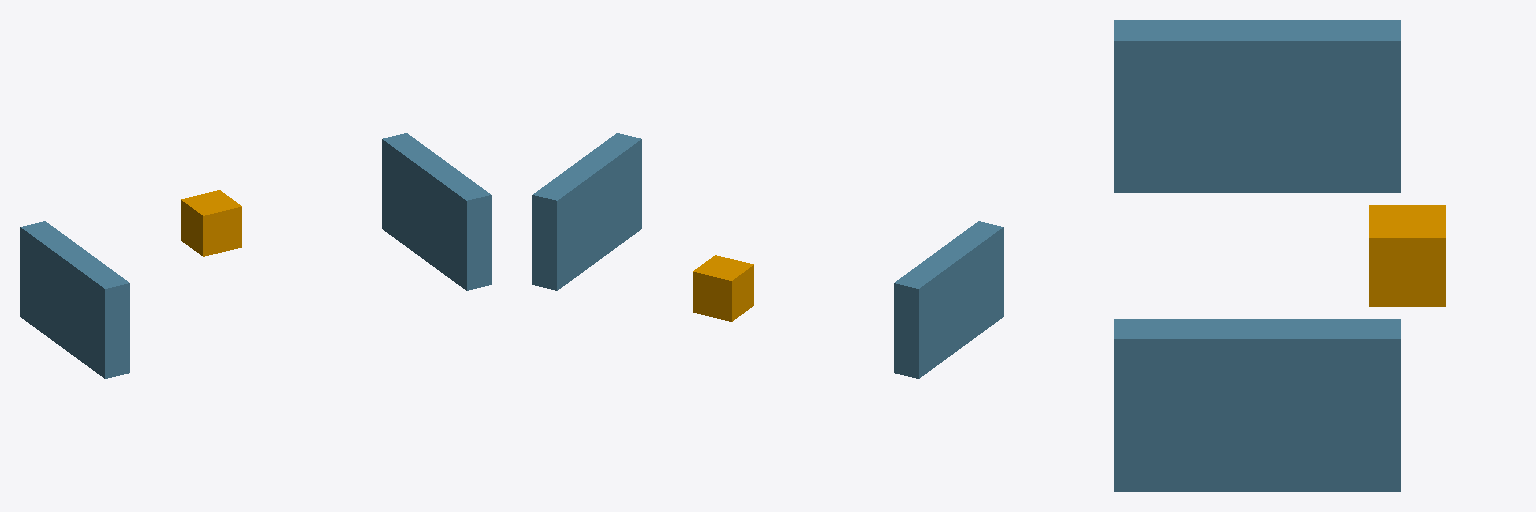
robot.urdf — ur5_robotiq_85:
<?xml version="1.0" ?>
<!-- =================================================================================== -->
<!-- |    This document was autogenerated by xacro from sisbot.xacro                   | -->
<!-- |    EDITING THIS FILE BY HAND IS NOT RECOMMENDED                                 | -->
<!-- =================================================================================== -->
<robot name="ur5_robotiq_85" xmlns:xacro="http://ros.org/wiki/xacro">
  <!--################################################
  ########              arm                    #######
  ####################################################-->

  <link name="base_link">
    <visual>
      <geometry>
        <mesh filename="./meshes/ur5/visual/base.obj"/>
      </geometry>
      <material name="LightGrey">
        <color rgba="0.7 0.7 0.7 1.0"/>
      </material>
    </visual>
    <collision>
      <geometry>
        <mesh filename="./meshes/ur5/collision/base.stl"/>
      </geometry>
    </collision>
    <inertial>
      <mass value="4.0"/>
      <origin rpy="0 0 0" xyz="0.0 0.0 0.0"/>
      <inertia ixx="0.00443333156" ixy="0.0" ixz="0.0" iyy="0.00443333156" iyz="0.0" izz="0.0072"/>
    </inertial>
  </link>
  <joint name="shoulder_pan_joint" type="revolute">
    <parent link="base_link"/>
    <child link="shoulder_link"/>
    <origin rpy="0.0 0.0 0.0" xyz="0.0 0.0 0.089159"/>
    <axis xyz="0 0 1"/>
    <limit effort="150.0" lower="-3.14159265359" upper="3.14159265359" velocity="3.15"/>
    <dynamics damping="0.0" friction="0.0"/>
  </joint>
  <link name="shoulder_link">
    <visual>
      <geometry>
        <mesh filename="./meshes/ur5/visual/shoulder.obj"/>
      </geometry>
      <material name="UR-Blue">
        <color rgba="0.376 0.576 0.674 1.0"/>
      </material>
    </visual>
    <collision>
      <geometry>
        <mesh filename="./meshes/ur5/collision/shoulder.stl"/>
      </geometry>
    </collision>
    <inertial>
      <mass value="3.7"/>
      <origin rpy="0 0 0" xyz="0.0 0.0 0.0"/>
      <inertia ixx="0.010267495893" ixy="0.0" ixz="0.0" iyy="0.010267495893" iyz="0.0" izz="0.00666"/>
    </inertial>
  </link>
  <joint name="shoulder_lift_joint" type="revolute">
    <parent link="shoulder_link"/>
    <child link="upper_arm_link"/>
    <origin rpy="0.0 1.57079632679 0.0" xyz="0.0 0.13585 0.0"/>
    <axis xyz="0 1 0"/>
    <limit effort="150.0" lower="-3.14159265359" upper="3.14159265359" velocity="3.15"/>
    <dynamics damping="0.0" friction="0.0"/>
  </joint>
  <link name="upper_arm_link">
    <visual>
      <geometry>
        <mesh filename="./meshes/ur5/visual/upperarm.obj"/>
      </geometry>
      <material name="LightGrey">
        <color rgba="0.7 0.7 0.7 1.0"/>
      </material>
    </visual>
    <collision>
      <geometry>
        <mesh filename="./meshes/ur5/collision/upperarm.stl"/>
      </geometry>
    </collision>
    <inertial>
      <mass value="8.393"/>
      <origin rpy="0 0 0" xyz="0.0 0.0 0.28"/>
      <inertia ixx="0.22689067591" ixy="0.0" ixz="0.0" iyy="0.22689067591" iyz="0.0" izz="0.0151074"/>
    </inertial>
  </link>
  <joint name="elbow_joint" type="revolute">
    <parent link="upper_arm_link"/>
    <child link="forearm_link"/>
    <origin rpy="0.0 0.0 0.0" xyz="0.0 -0.1197 0.425"/>
    <axis xyz="0 1 0"/>
    <limit effort="150.0" lower="-3.14159265359" upper="3.14159265359" velocity="3.15"/>
    <dynamics damping="0.0" friction="0.0"/>
  </joint>
  <link name="forearm_link">
    <visual>
      <geometry>
        <mesh filename="./meshes/ur5/visual/forearm.obj"/>
      </geometry>
      <material name="LightGrey">
        <color rgba="0.7 0.7 0.7 1.0"/>
      </material>
    </visual>
    <collision>
      <geometry>
        <mesh filename="./meshes/ur5/collision/forearm.stl"/>
      </geometry>
    </collision>
    <inertial>
      <mass value="2.275"/>
      <origin rpy="0 0 0" xyz="0.0 0.0 0.25"/>
      <inertia ixx="0.049443313556" ixy="0.0" ixz="0.0" iyy="0.049443313556" iyz="0.0" izz="0.004095"/>
    </inertial>
  </link>
  <joint name="wrist_1_joint" type="revolute">
    <parent link="forearm_link"/>
    <child link="wrist_1_link"/>
    <origin rpy="0.0 1.57079632679 0.0" xyz="0.0 0.0 0.39225"/>
    <axis xyz="0 1 0"/>
    <limit effort="28.0" lower="-3.14159265359" upper="3.14159265359" velocity="3.2"/>
    <dynamics damping="0.0" friction="0.0"/>
  </joint>
  <link name="wrist_1_link">
    <visual>
      <geometry>
        <mesh filename="./meshes/ur5/visual/wrist1.obj"/>
      </geometry>
      <material name="UR-Blue">
        <color rgba="0.376 0.576 0.674 1.0"/>
      </material>
    </visual>
    <collision>
      <geometry>
        <mesh filename="./meshes/ur5/collision/wrist1.stl"/>
      </geometry>
    </collision>
    <inertial>
      <mass value="1.219"/>
      <origin rpy="0 0 0" xyz="0.0 0.0 0.0"/>
      <inertia ixx="0.111172755531" ixy="0.0" ixz="0.0" iyy="0.111172755531" iyz="0.0" izz="0.21942"/>
    </inertial>
  </link>
  <joint name="wrist_2_joint" type="revolute">
    <parent link="wrist_1_link"/>
    <child link="wrist_2_link"/>
    <origin rpy="0.0 0.0 0.0" xyz="0.0 0.093 0.0"/>
    <axis xyz="0 0 1"/>
    <limit effort="28.0" lower="-3.14159265359" upper="3.14159265359" velocity="3.2"/>
    <dynamics damping="0.0" friction="0.0"/>
  </joint>
  <link name="wrist_2_link">
    <visual>
      <geometry>
        <mesh filename="./meshes/ur5/visual/wrist2.obj"/>
      </geometry>
      <material name="DarkGray">
        <color rgba="0.5 0.5 0.5 1.0"/>
      </material>
    </visual>
    <collision>
      <geometry>
        <mesh filename="./meshes/ur5/collision/wrist2.stl"/>
      </geometry>
    </collision>
    <inertial>
      <mass value="1.219"/>
      <origin rpy="0 0 0" xyz="0.0 0.0 0.0"/>
      <inertia ixx="0.111172755531" ixy="0.0" ixz="0.0" iyy="0.111172755531" iyz="0.0" izz="0.21942"/>
    </inertial>
  </link>
  <joint name="wrist_3_joint" type="revolute">
    <parent link="wrist_2_link"/>
    <child link="wrist_3_link"/>
    <origin rpy="0.0 0.0 0.0" xyz="0.0 0.0 0.09465"/>
    <axis xyz="0 1 0"/>
    <limit effort="28.0" lower="-3.14159265359" upper="3.14159265359" velocity="3.2"/>
    <dynamics damping="0.0" friction="0.0"/>
  </joint>
  <link name="wrist_3_link">
    <visual>
      <geometry>
        <mesh filename="./meshes/ur5/visual/wrist3.obj"/>
      </geometry>
      <material name="LightGrey">
        <color rgba="0.7 0.7 0.7 1.0"/>
      </material>
    </visual>
    <collision>
      <geometry>
        <mesh filename="./meshes/ur5/collision/wrist3.stl"/>
      </geometry>
    </collision>
    <inertial>
      <mass value="0.1879"/>
      <origin rpy="0 0 0" xyz="0.0 0.0 0.0"/>
      <inertia ixx="0.0171364731454" ixy="0.0" ixz="0.0" iyy="0.0171364731454" iyz="0.0" izz="0.033822"/>
    </inertial>
  </link>
  <joint name="ee_fixed_joint" type="fixed">
    <parent link="wrist_3_link"/>
    <child link="ee_link"/>
    <origin rpy="0.0 0.0 1.57079632679" xyz="0.0 0.0823 0.0"/>
  </joint>
  <link name="ee_link">
    <collision>
      <geometry>
        <box size="0.01 0.01 0.01"/>
      </geometry>
      <origin rpy="0 0 0" xyz="-0.01 0 0"/>
    </collision>
  </link>

    <link name="ur5_grasptarget">
   <inertial>
      <origin rpy="0 0 0" xyz="0 0 0"/>
       <mass value="0.0"/>
       <inertia ixx="0.1" ixy="0" ixz="0" iyy="0.1" iyz="0" izz="0.1"/>
    </inertial>
    <material name="panda_blue">
    		<color rgba="0.7 0.7 0.7 1.0"/>
    </material>
    <visual>
      <geometry>
        <box size="0.01 0.01 0.01"/>
      </geometry>
      <origin rpy="0 0 0" xyz="0.0 0 0"/>
    </visual>
   </link>

   <joint name="ur5_grasptarget_hand" type="fixed">
    <parent link="ee_link"/>
    <child link="ur5_grasptarget"/>
    <origin rpy="0 0 0" xyz="0.15 0.0 0.0"/>
  </joint>

  <!--################################################
  ########              gripper                  #####
  ####################################################-->

  <link name="robotiq_arg2f_base_link">
    <inertial>
      <origin rpy="0 0 0" xyz="8.625E-08 -4.6583E-06 0.03145"/>
      <mass value="0.22652"/>
      <inertia ixx="0.00020005" ixy="-4.2442E-10" ixz="-2.9069E-10" iyy="0.00017832" iyz="-3.4402E-08" izz="0.00013478"/>
    </inertial>
    <visual>
      <origin rpy="0 0 0" xyz="0 0 0"/>
      <geometry>
        <mesh filename="./meshes/robotiq_85/visual/robotiq_arg2f_85_base_link.dae" scale="0.001 0.001 0.001"/>
      </geometry>
      <material name="LightGrey">
        <color rgba="0.7 0.7 0.7 1.0"/>
      </material>
    </visual>
    <collision>
      <origin rpy="0 0 0" xyz="0 0 0"/>
      <geometry>
        <mesh filename="./meshes/robotiq_85/collision/robotiq_arg2f_base_link.stl"/>
      </geometry>
    </collision>
  </link>
  <joint name="finger_joint" type="revolute">
    <origin rpy="0 0 3.14159265359" xyz="0 -0.0306011 0.054904"/>
    <parent link="robotiq_arg2f_base_link"/>
    <child link="left_outer_knuckle"/>
    <axis xyz="1 0 0"/>
    <limit effort="1000" lower="0" upper="0.8" velocity="2.0"/>
  </joint>
  <link name="left_outer_knuckle">
    <inertial>
        <origin xyz="-0.000200000000003065 0.0199435877845359 0.0292245259211331" rpy="0 0 0" />
        <mass value="0.00853198276973456" />
        <inertia ixx="2.89328108496468E-06" ixy="-1.57935047237397E-19" ixz="-1.93980378593255E-19" iyy="1.86719750325683E-06" iyz="-1.21858577871576E-06" izz="1.21905238907251E-06" />
        </inertial>
    <visual>
      <origin rpy="0 0 0" xyz="0 0 0"/>
      <geometry>
        <mesh filename="./meshes/robotiq_85/visual/robotiq_arg2f_85_outer_knuckle.dae" scale="0.001 0.001 0.001"/>
      </geometry>
      <material name="">
        <color rgba="1 1 0 1"/>
      </material>
    </visual>
    <collision>
      <origin rpy="0 0 0" xyz="0 0 0"/>
      <geometry>
        <mesh filename="./meshes/robotiq_85/collision/robotiq_arg2f_85_outer_knuckle.dae" scale="0.001 0.001 0.001"/>
      </geometry>
    </collision>
  </link>
  <joint name="left_outer_finger_joint" type="fixed">
    <origin rpy="0 0 0" xyz="0 0.0315 -0.0041"/>
    <parent link="left_outer_knuckle"/>
    <child link="left_outer_finger"/>
    <axis xyz="1 0 0"/>
  </joint>
  <link name="left_outer_finger">
    <inertial>
        <origin xyz="0.00030115855001899 0.0373907951953854 -0.0208027427000385" rpy="0 0 0" />
        <mass value="0.022614240507152" />
        <inertia ixx="1.52518312458174E-05" ixy="9.76583423954399E-10" ixz="-5.43838577022588E-10" iyy="6.17694243867776E-06" iyz="6.78636130740228E-06" izz="1.16494917907219E-05" />
        </inertial>
    <visual>
      <origin rpy="0 0 0" xyz="0 0 0"/>
      <geometry>
        <mesh filename="./meshes/robotiq_85/visual/robotiq_arg2f_85_outer_finger.dae" scale="0.001 0.001 0.001"/>
      </geometry>
      <material name="LightGrey">
        <color rgba="0 1 1 1.0"/>
      </material>
    </visual>
    <collision>
      <origin rpy="0 0 0" xyz="0 0 0"/>
      <geometry>
        <mesh filename="./meshes/robotiq_85/collision/robotiq_arg2f_85_outer_finger.dae" scale="0.001 0.001 0.001"/>
      </geometry>
    </collision>
  </link>
  <joint name="left_inner_finger_joint" type="revolute">
    <origin rpy="0 0 0" xyz="0 0.0061 0.0471"/>
    <parent link="left_outer_finger"/>
    <child link="left_inner_finger"/>
    <axis xyz="1 0 0"/>
    <limit effort="1000" lower="-0.8757" upper="0" velocity="2.0"/>
    <mimic joint="finger_joint" multiplier="-1" offset="0"/>
  </joint>
  <link name="left_inner_finger">
    <inertial>
        <origin xyz="0.000299999999999317 0.0160078233491243 -0.0136945669206257" rpy="0 0 0" />
        <mass value="0.0104003125914103" />
        <inertia ixx="2.71909453810972E-06" ixy="1.35402465472579E-21" ixz="-7.1817349065269E-22" iyy="7.69100314106116E-07" iyz="6.74715432769696E-07" izz="2.30315190420171E-06" />
        </inertial>
    <visual>
      <origin rpy="0 0 0" xyz="0 0 0"/>
      <geometry>
        <mesh filename="./meshes/robotiq_85/visual/robotiq_arg2f_85_inner_finger.dae" scale="0.001 0.001 0.001"/>
      </geometry>
      <material name="LightGrey">
        <color rgba="1 0 1 1.0"/>
      </material>
    </visual>
    <collision>
      <origin rpy="0 0 0" xyz="0 0 0"/>
      <geometry>
        <mesh filename="./meshes/robotiq_85/collision/robotiq_arg2f_85_inner_finger.dae" scale="0.001 0.001 0.001"/>
      </geometry>
    </collision>
  </link>
  <joint name="left_inner_finger_pad_joint" type="fixed">
    <origin rpy="0 0 0" xyz="0 -0.0220203446692936 0.03242"/>
    <parent link="left_inner_finger"/>
    <child link="left_inner_finger_pad"/>
    <axis xyz="0 0 1"/>
  </joint>
  <link name="left_inner_finger_pad">
    <inertial>
      <mass value="1."/>
      <inertia ixx="1E-10" ixy="1E-10" ixz="1E-10" iyy="1E-10" iyz="1E-10" izz="1E-10"/>
    </inertial>
    <visual>
      <origin rpy="0 0 0" xyz="0 0 0"/>
      <geometry>
        <box size="0.022 0.00635 0.0375"/>
      </geometry>
      <material name="UR-Blue">
        <color rgba="0.376 0.576 0.674 1.0"/>
      </material>
    </visual>
    <collision>
      <origin rpy="0 0 0" xyz="0 0 0"/>
      <geometry>
        <box size="0.022 0.00635 0.0375"/>
      </geometry>
      <material name="">
        <color rgba="0.9 0.0 0.0 1"/>
      </material>
    </collision>
  </link>
  <joint name="left_inner_knuckle_joint" type="revolute">
    <!-- <origin xyz="0 ${reflect * -0.0127} 0.06142" rpy="${pi / 2 + .725} 0 ${(reflect - 1) * pi / 2}" /> -->
    <origin rpy="0 0 3.14159265359" xyz="0 -0.0127 0.06142"/>
    <parent link="robotiq_arg2f_base_link"/>
    <child link="left_inner_knuckle"/>
    <axis xyz="1 0 0"/>
    <limit effort="1000" lower="0" upper="0.8757" velocity="2.0"/>
    <mimic joint="finger_joint" multiplier="1" offset="0"/>
  </joint>
  <link name="left_inner_knuckle">
    <inertial>
        <origin xyz="0.000123011831763771 0.0507850843201817 0.00103968640075166" rpy="0 0 0" />
       <mass value="0.0271177346495152" />
        <inertia ixx="2.61910379223783E-05" ixy="-2.43616858946494E-07" ixz="-6.37789906117123E-09" iyy="2.8270243746167E-06" iyz="-5.37200748039765E-07" izz="2.83695868220296E-05" />
        </inertial>
    <visual>
      <origin rpy="0 0 0" xyz="0 0 0"/>
      <geometry>
        <mesh filename="./meshes/robotiq_85/visual/robotiq_arg2f_85_inner_knuckle.dae" scale="0.001 0.001 0.001"/>
      </geometry>
      <material name="LightGrey">
        <color rgba="0 0 1 1.0"/>
      </material>
    </visual>
    <collision>
      <origin rpy="0 0 0" xyz="0 0 0"/>
      <geometry>
        <mesh filename="./meshes/robotiq_85/collision/robotiq_arg2f_85_inner_knuckle.dae" scale="0.001 0.001 0.001"/>
      </geometry>
    </collision>
  </link>
  <joint name="right_outer_knuckle_joint" type="revolute">
    <origin rpy="0 0 0" xyz="0 0.0306011 0.054904"/>
    <parent link="robotiq_arg2f_base_link"/>
    <child link="right_outer_knuckle"/>
    <axis xyz="1 0 0"/>
    <limit effort="1000" lower="0" upper="0.81" velocity="2.0"/>
    <mimic joint="finger_joint" multiplier="1" offset="0"/>
  </joint>
  <link name="right_outer_knuckle">
    <inertial>
        <origin xyz="-0.000200000000003065 0.0199435877845359 0.0292245259211331" rpy="0 0 0" />
        <mass value="0.00853198276973456" />
        <inertia ixx="2.89328108496468E-06" ixy="-1.57935047237397E-19" ixz="-1.93980378593255E-19" iyy="1.86719750325683E-06" iyz="-1.21858577871576E-06" izz="1.21905238907251E-06" />
        </inertial>
    <visual>
      <origin rpy="0 0 0" xyz="0 0 0"/>
      <geometry>
        <mesh filename="./meshes/robotiq_85/visual/robotiq_arg2f_85_outer_knuckle.dae" scale="0.001 0.001 0.001"/>
      </geometry>
      <material name="">
        <color rgba="0.792156862745098 0.819607843137255 0.933333333333333 1"/>
      </material>
    </visual>
    <collision>
      <origin rpy="0 0 0" xyz="0 0 0"/>
      <geometry>
        <mesh filename="./meshes/robotiq_85/collision/robotiq_arg2f_85_outer_knuckle.dae" scale="0.001 0.001 0.001"/>
      </geometry>
    </collision>
  </link>
  <joint name="right_outer_finger_joint" type="fixed">
    <origin rpy="0 0 0" xyz="0 0.0315 -0.0041"/>
    <parent link="right_outer_knuckle"/>
    <child link="right_outer_finger"/>
    <axis xyz="1 0 0"/>
  </joint>
  <link name="right_outer_finger">
    <inertial>
        <origin xyz="0.00030115855001899 0.0373907951953854 -0.0208027427000385" rpy="0 0 0" />
        <mass value="0.022614240507152" />
        <inertia ixx="1.52518312458174E-05" ixy="9.76583423954399E-10" ixz="-5.43838577022588E-10" iyy="6.17694243867776E-06" iyz="6.78636130740228E-06" izz="1.16494917907219E-05" />
        </inertial>
    <visual>
      <origin rpy="0 0 0" xyz="0 0 0"/>
      <geometry>
        <mesh filename="./meshes/robotiq_85/visual/robotiq_arg2f_85_outer_finger.dae" scale="0.001 0.001 0.001"/>
      </geometry>
      <material name="LightGrey">
        <color rgba="0.7 0.7 0.7 1.0"/>
      </material>
    </visual>
    <collision>
      <origin rpy="0 0 0" xyz="0 0 0"/>
      <geometry>
        <mesh filename="./meshes/robotiq_85/collision/robotiq_arg2f_85_outer_finger.dae" scale="0.001 0.001 0.001"/>
      </geometry>
    </collision>
  </link>
  <joint name="right_inner_finger_joint" type="revolute">
    <origin rpy="0 0 0" xyz="0 0.0061 0.0471"/>
    <parent link="right_outer_finger"/>
    <child link="right_inner_finger"/>
    <axis xyz="1 0 0"/>
    <limit effort="1000" lower="-0.8757" upper="0" velocity="2.0"/>
    <mimic joint="finger_joint" multiplier="-1" offset="0"/>
  </joint>
  <link name="right_inner_finger">
    <inertial>
        <origin xyz="0.000299999999999317 0.0160078233491243 -0.0136945669206257" rpy="0 0 0" />
        <mass value="0.0104003125914103" />
        <inertia ixx="2.71909453810972E-06" ixy="1.35402465472579E-21" ixz="-7.1817349065269E-22" iyy="7.69100314106116E-07" iyz="6.74715432769696E-07" izz="2.30315190420171E-06" />
        </inertial>
    <visual>
      <origin rpy="0 0 0" xyz="0 0 0"/>
      <geometry>
        <mesh filename="./meshes/robotiq_85/visual/robotiq_arg2f_85_inner_finger.dae" scale="0.001 0.001 0.001"/>
      </geometry>
      <material name="">
        <color rgba="0.1 0.1 0.1 1"/>
      </material>
    </visual>
    <collision>
      <origin rpy="0 0 0" xyz="0 0 0"/>
      <geometry>
        <mesh filename="./meshes/robotiq_85/collision/robotiq_arg2f_85_inner_finger.dae" scale="0.001 0.001 0.001"/>
      </geometry>
    </collision>
  </link>
  <joint name="right_inner_finger_pad_joint" type="fixed">
    <origin rpy="0 0 0" xyz="0 -0.0220203446692936 0.03242"/>
    <parent link="right_inner_finger"/>
    <child link="right_inner_finger_pad"/>
    <axis xyz="0 0 1"/>
  </joint>
  <link name="right_inner_finger_pad">
    <inertial>
      <mass value="1"/>
      <inertia ixx="1E-10" ixy="1E-10" ixz="1E-10" iyy="1E-10" iyz="1E-10" izz="1E-10"/>
    </inertial>
    <visual>
      <origin rpy="0 0 0" xyz="0 0 0"/>
      <geometry>
        <box size="0.022 0.00635 0.0375"/>
      </geometry>
      <material name="UR-Blue">
        <color rgba="0.376 0.576 0.674 1.0"/>
      </material>
    </visual>
    <collision>
      <origin rpy="0 0 0" xyz="0 0 0"/>
      <geometry>
        <box size="0.022 0.00635 0.0375"/>
      </geometry>
      <material name="LightGrey">
        <color rgba="0.7 0.7 0.7 1.0"/>
      </material>
    </collision>
  </link>
  <joint name="right_inner_knuckle_joint" type="revolute">
    <!-- <origin xyz="0 ${reflect * -0.0127} 0.06142" rpy="${pi / 2 + .725} 0 ${(reflect - 1) * pi / 2}" /> -->
    <origin rpy="0 0 0.0" xyz="0 0.0127 0.06142"/>
    <parent link="robotiq_arg2f_base_link"/>
    <child link="right_inner_knuckle"/>
    <axis xyz="1 0 0"/>
    <limit effort="1000" lower="0" upper="0.8757" velocity="2.0"/>
    <mimic joint="finger_joint" multiplier="1" offset="0"/>
  </joint>
  <link name="right_inner_knuckle">
    <inertial>
        <origin xyz="0.000123011831763771 0.0507850843201817 0.00103968640075166" rpy="0 0 0" />
       <mass value="0.0271177346495152" />
        <inertia ixx="2.61910379223783E-05" ixy="-2.43616858946494E-07" ixz="-6.37789906117123E-09" iyy="2.8270243746167E-06" iyz="-5.37200748039765E-07" izz="2.83695868220296E-05" />
        </inertial>
    <visual>
      <origin rpy="0 0 0" xyz="0 0 0"/>
      <geometry>
        <mesh filename="./meshes/robotiq_85/visual/robotiq_arg2f_85_inner_knuckle.dae" scale="0.001 0.001 0.001"/>
      </geometry>
      <material name="LightGrey">
        <color rgba="0.7 0.7 0.7 1.0"/>
      </material>
    </visual>
    <collision>
      <origin rpy="0 0 0" xyz="0 0 0"/>
      <geometry>
        <mesh filename="./meshes/robotiq_85/collision/robotiq_arg2f_85_inner_knuckle.dae" scale="0.001 0.001 0.001"/>
      </geometry>
    </collision>
  </link>

<!--################################################
  ########          connect model                #####
  ####################################################-->

  <link name="world"/>
  <!-- connect gripper to arm -->
  <joint name="robotiq_85_base_joint" type="fixed">
    <parent link="ee_link"/>
    <child link="robotiq_arg2f_base_link"/>
    <origin rpy="0 1.57079632679 0" xyz="0 0 0"/>
  </joint>

<!--  <joint name="arm_gripper_joint" type="fixed">-->
<!--    <parent link="ee_link"/>-->
<!--    <child link="robotiq_140_robotiq_arg2f_base_link"/>-->
<!--    <origin rpy="-1.57 1.57 -1.57" xyz="0.0 0.0 0.0"/>-->
<!--  </joint>-->

  <!-- connect arm to world -->
  <joint name="world_arm_joint" type="fixed">
    <parent link="world"/>
    <child link="base_link"/>
    <origin rpy="0.0 0.0 0" xyz="0 0 0"/>
  </joint>


</robot>

--- What the picture shows (computed from the rendered views, not written in the file) ---
Views: 3 orthographic renders of the robot side by side, from view 1: azimuth 30°, elevation 25°; view 2: azimuth 150°, elevation 25°; view 3: azimuth 270°, elevation 25°.
Model ur5_robotiq_85 with 21 links and 20 joints (12 revolute, 8 fixed), rooted at world, posed every joint at zero.
Links seen in each view (by area): view 1: left_inner_finger_pad, right_inner_finger_pad, ur5_grasptarget; view 2: left_inner_finger_pad, right_inner_finger_pad, ur5_grasptarget; view 3: left_inner_finger_pad, right_inner_finger_pad, ur5_grasptarget.
Boxes of the visible links, x1,y1,x2,y2 form: left_inner_finger_pad: (20, 221, 129, 378); right_inner_finger_pad: (382, 133, 491, 290); ur5_grasptarget: (181, 190, 241, 256); left_inner_finger_pad: (894, 221, 1003, 378); right_inner_finger_pad: (532, 133, 641, 290); ur5_grasptarget: (693, 255, 753, 321); left_inner_finger_pad: (1114, 20, 1400, 192); right_inner_finger_pad: (1114, 319, 1400, 491); ur5_grasptarget: (1369, 205, 1445, 306).
Size in the robot's own frame: 0.0987 by 0.0434 by 0.022 metres.
0 mesh visuals loaded from 12 distinct referenced files (none loaded); not drawn: 16 (reference not matched to a file when rendering).